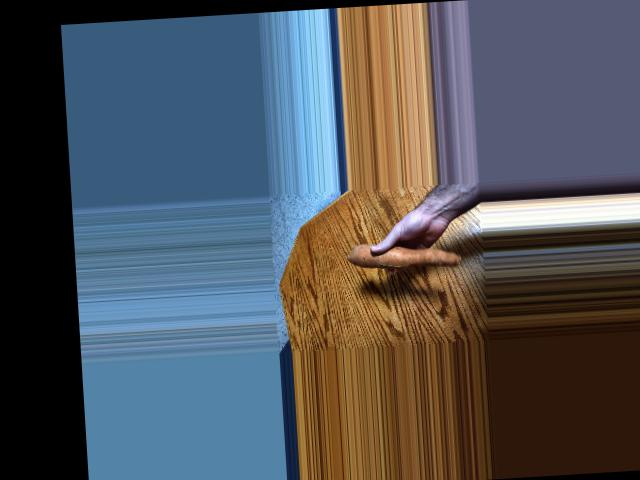sweet_potato: (349, 242, 466, 274)
